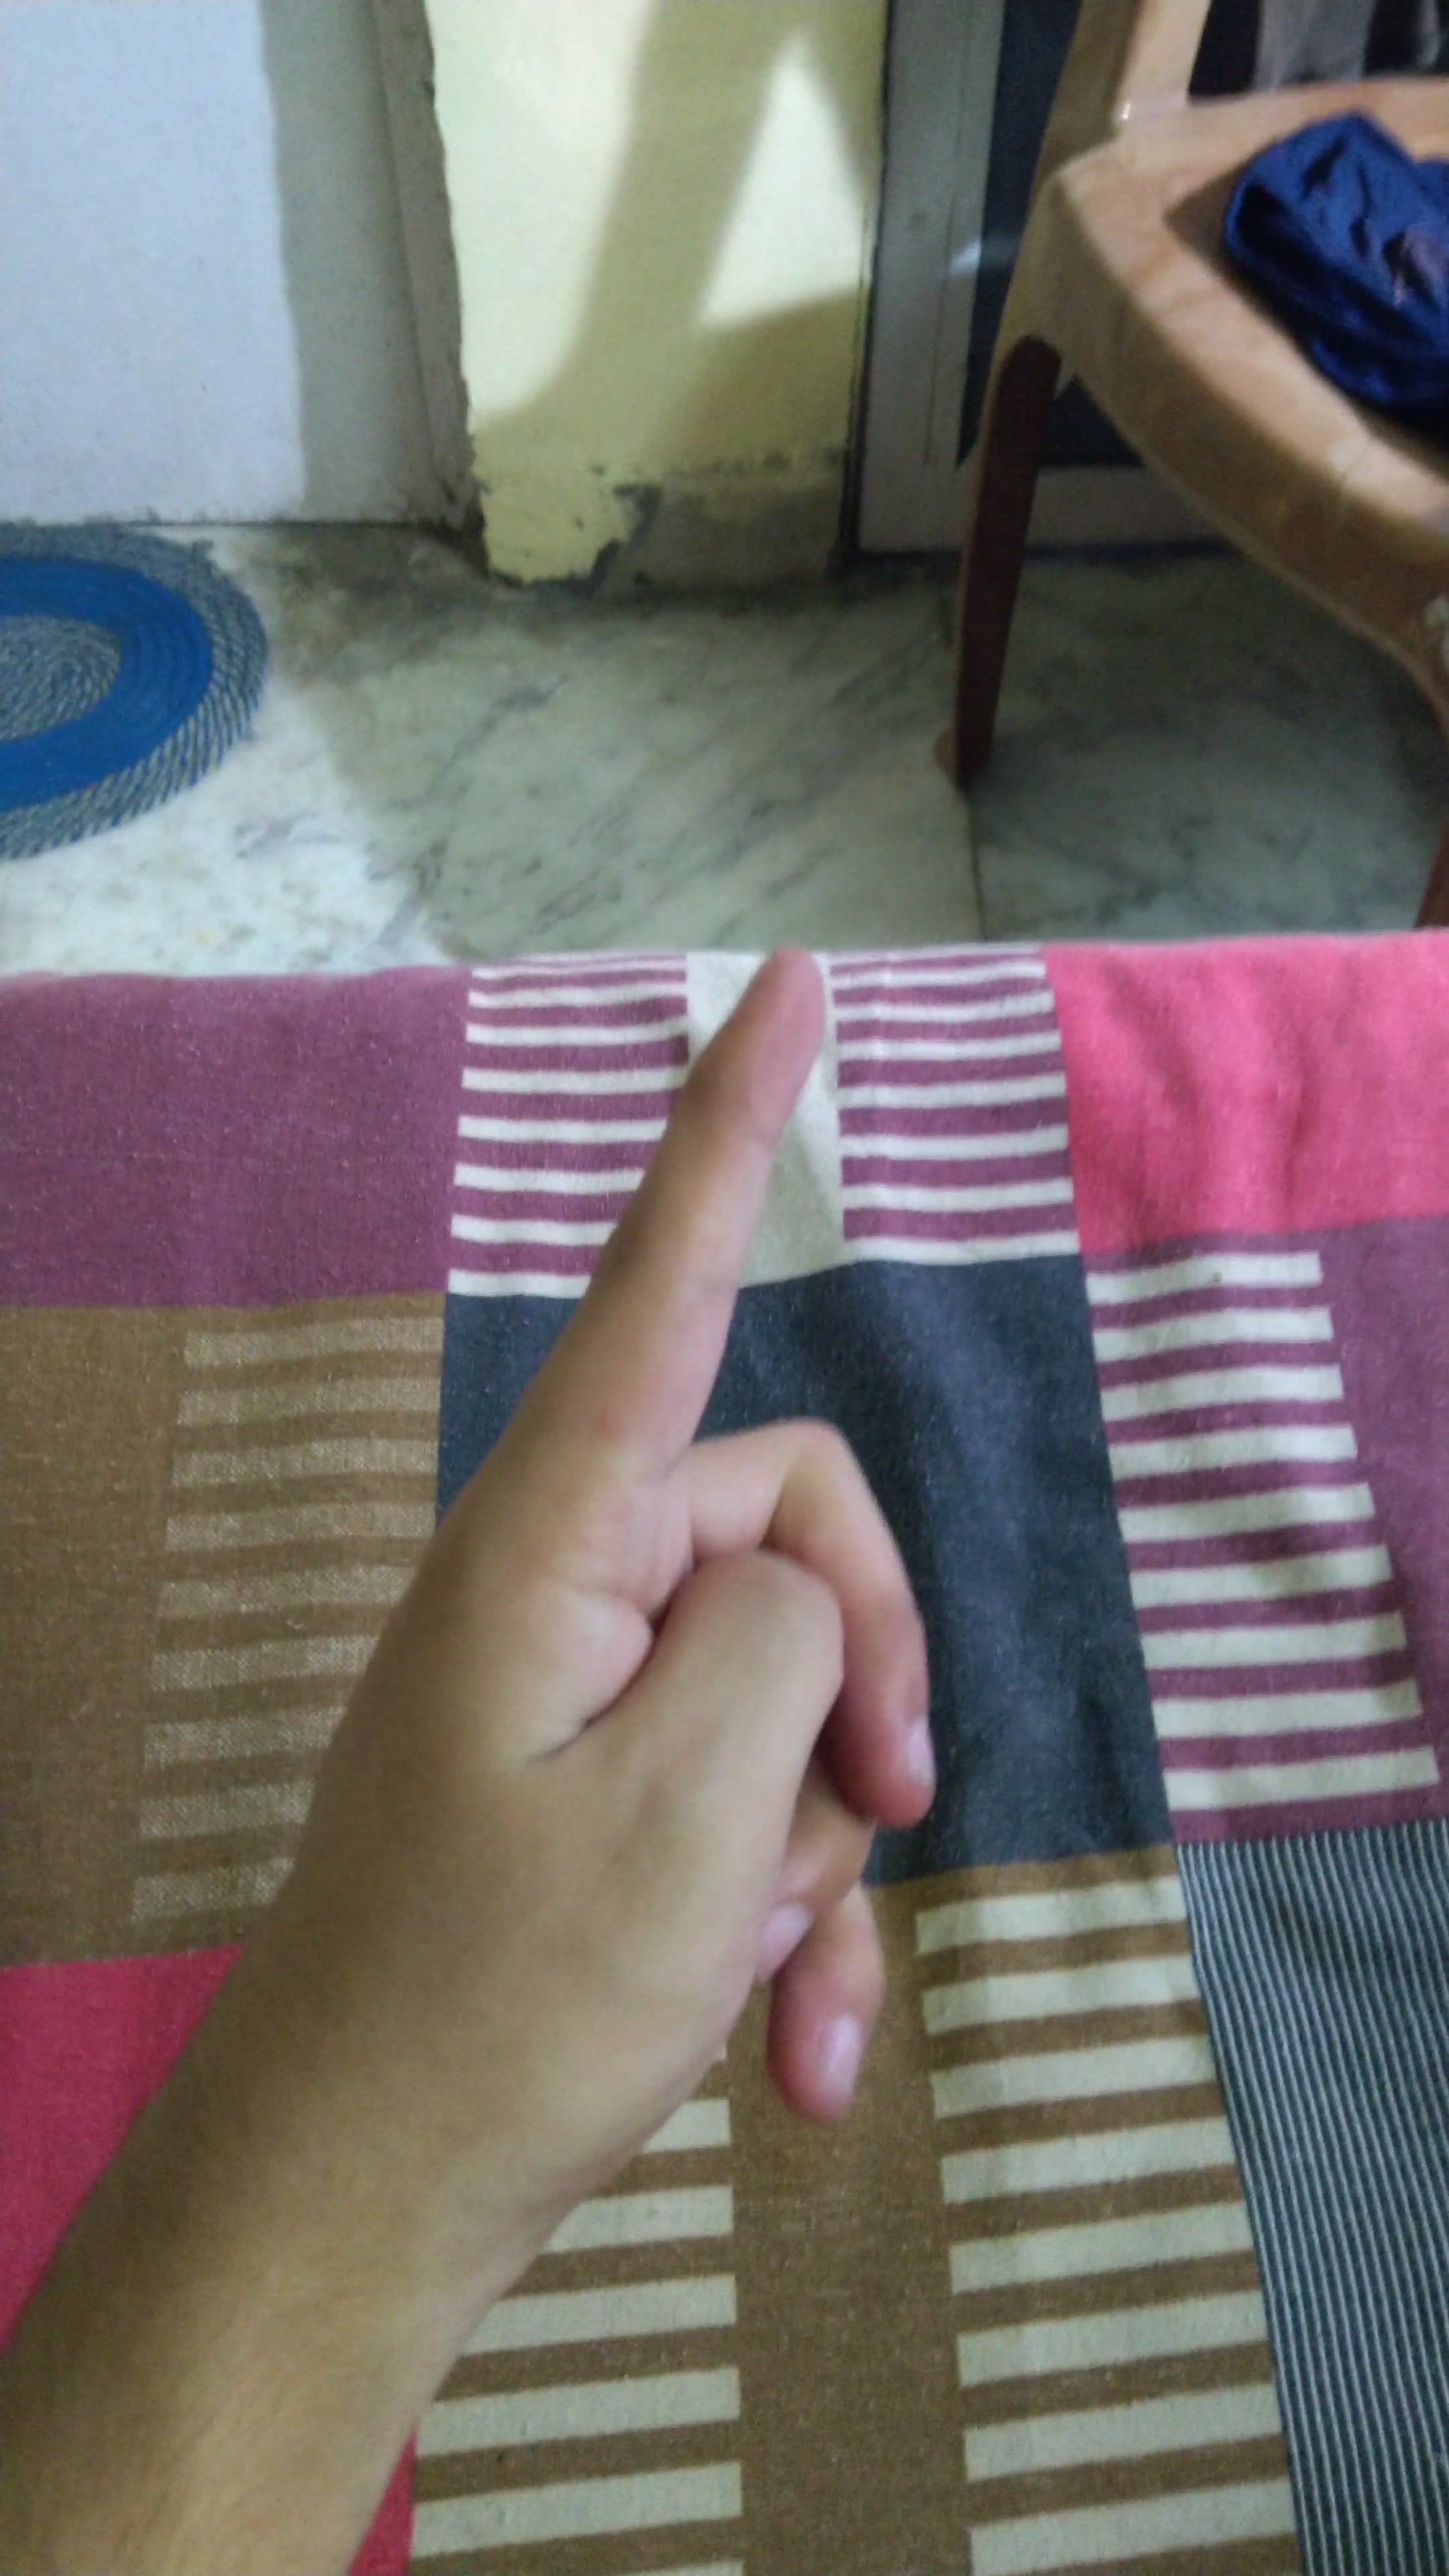hand: (166, 851, 1044, 2243)
